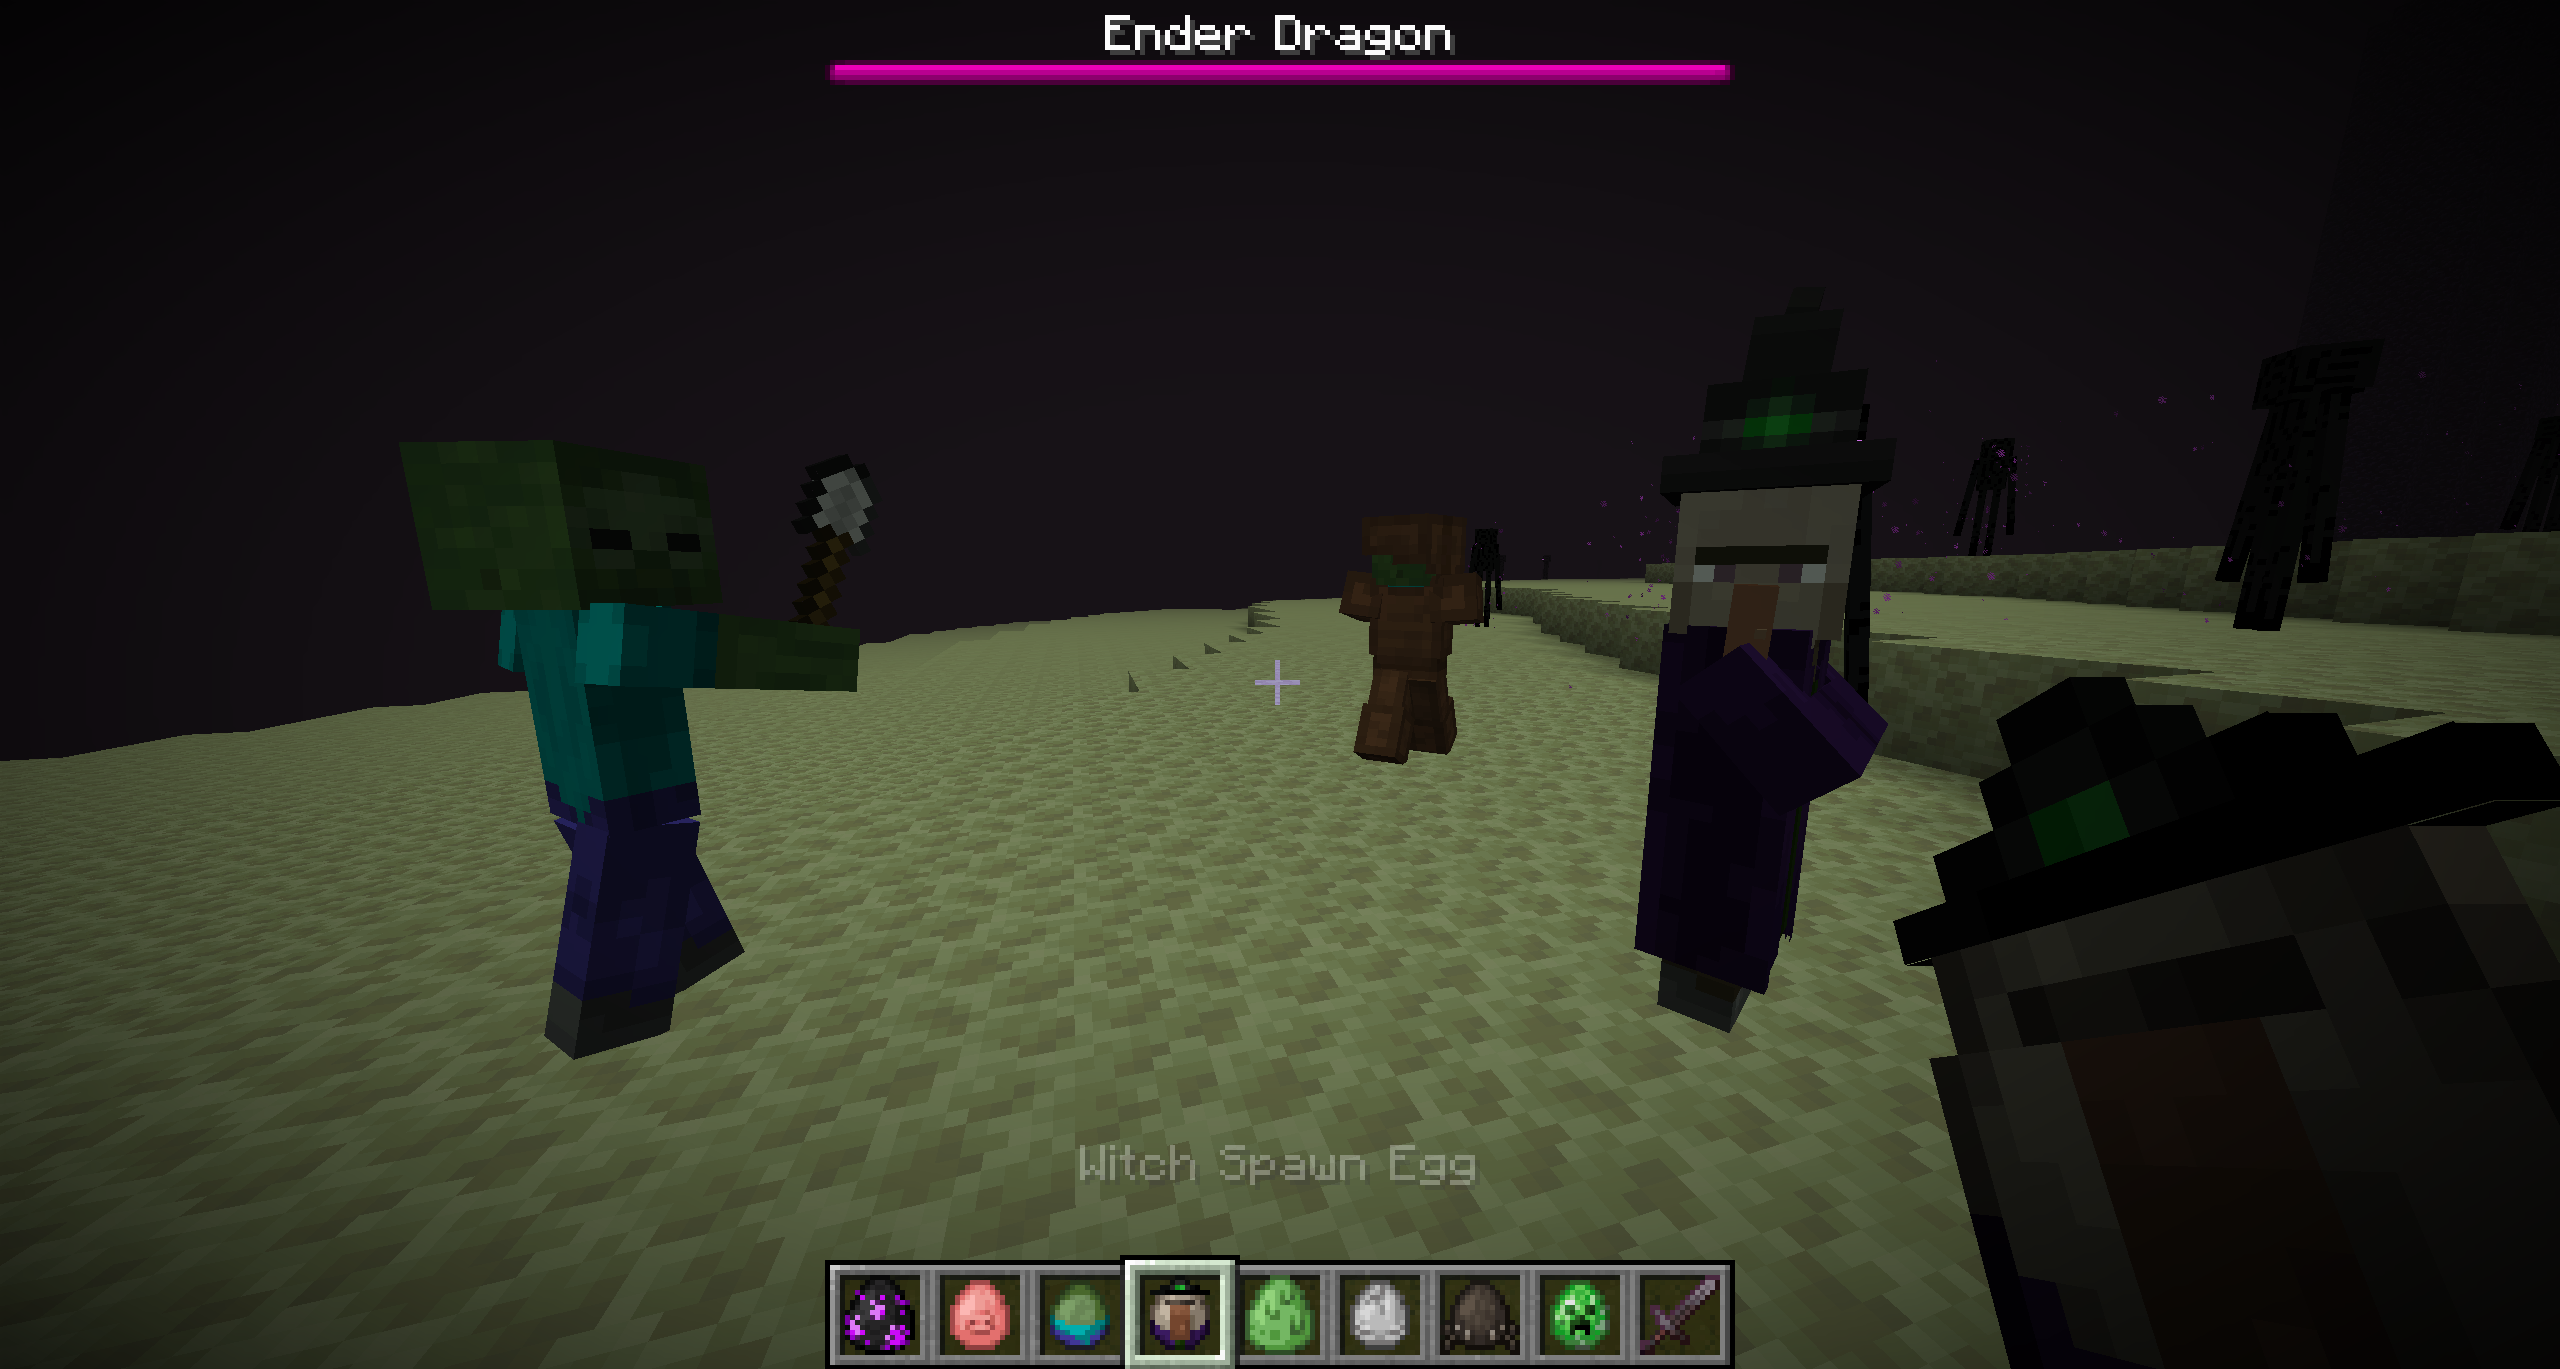endermens: (2226, 349, 2342, 641), (1966, 438, 2018, 558), (1473, 526, 1505, 626), (1537, 552, 1551, 582)
sorcieres: (1651, 305, 1862, 1027)
zombies: (401, 443, 791, 1056), (1343, 511, 1465, 750)
